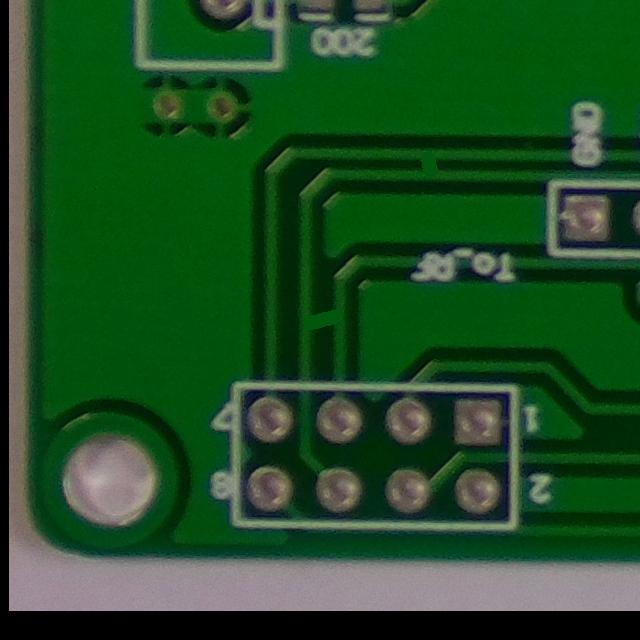short: (283, 289, 357, 351)
